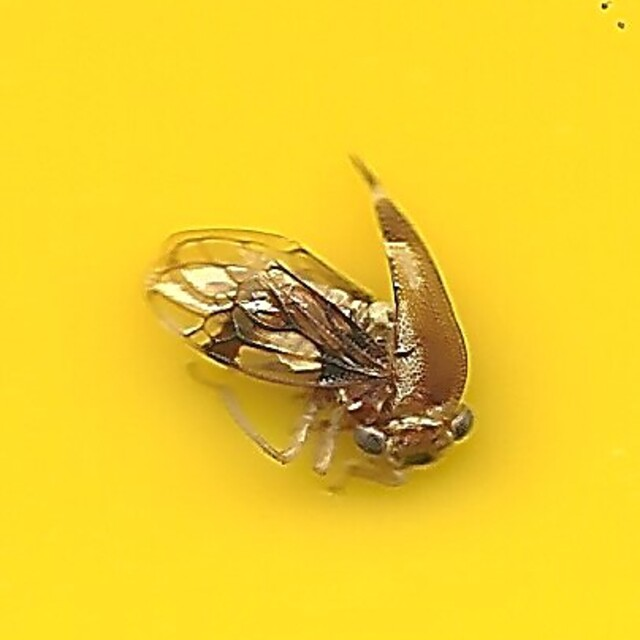Hemiptera: (158, 156, 482, 484)
